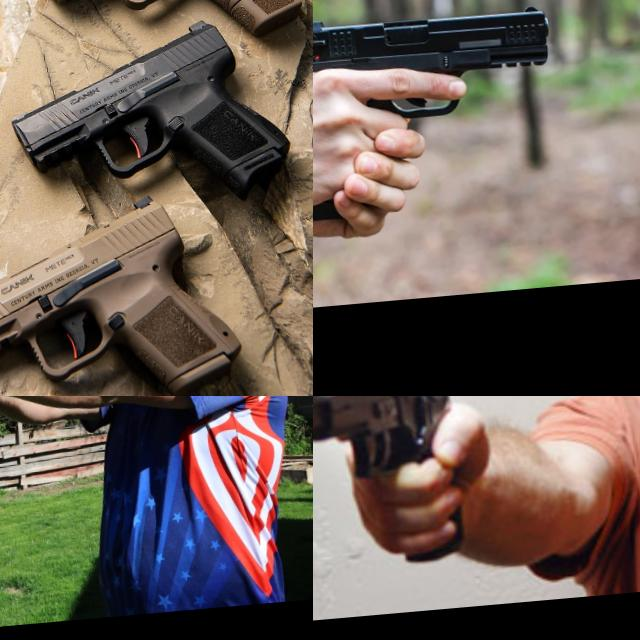handgun: (3, 10, 295, 222), (0, 183, 248, 396), (313, 0, 558, 128), (22, 0, 309, 101), (313, 396, 458, 487), (0, 396, 77, 427)
